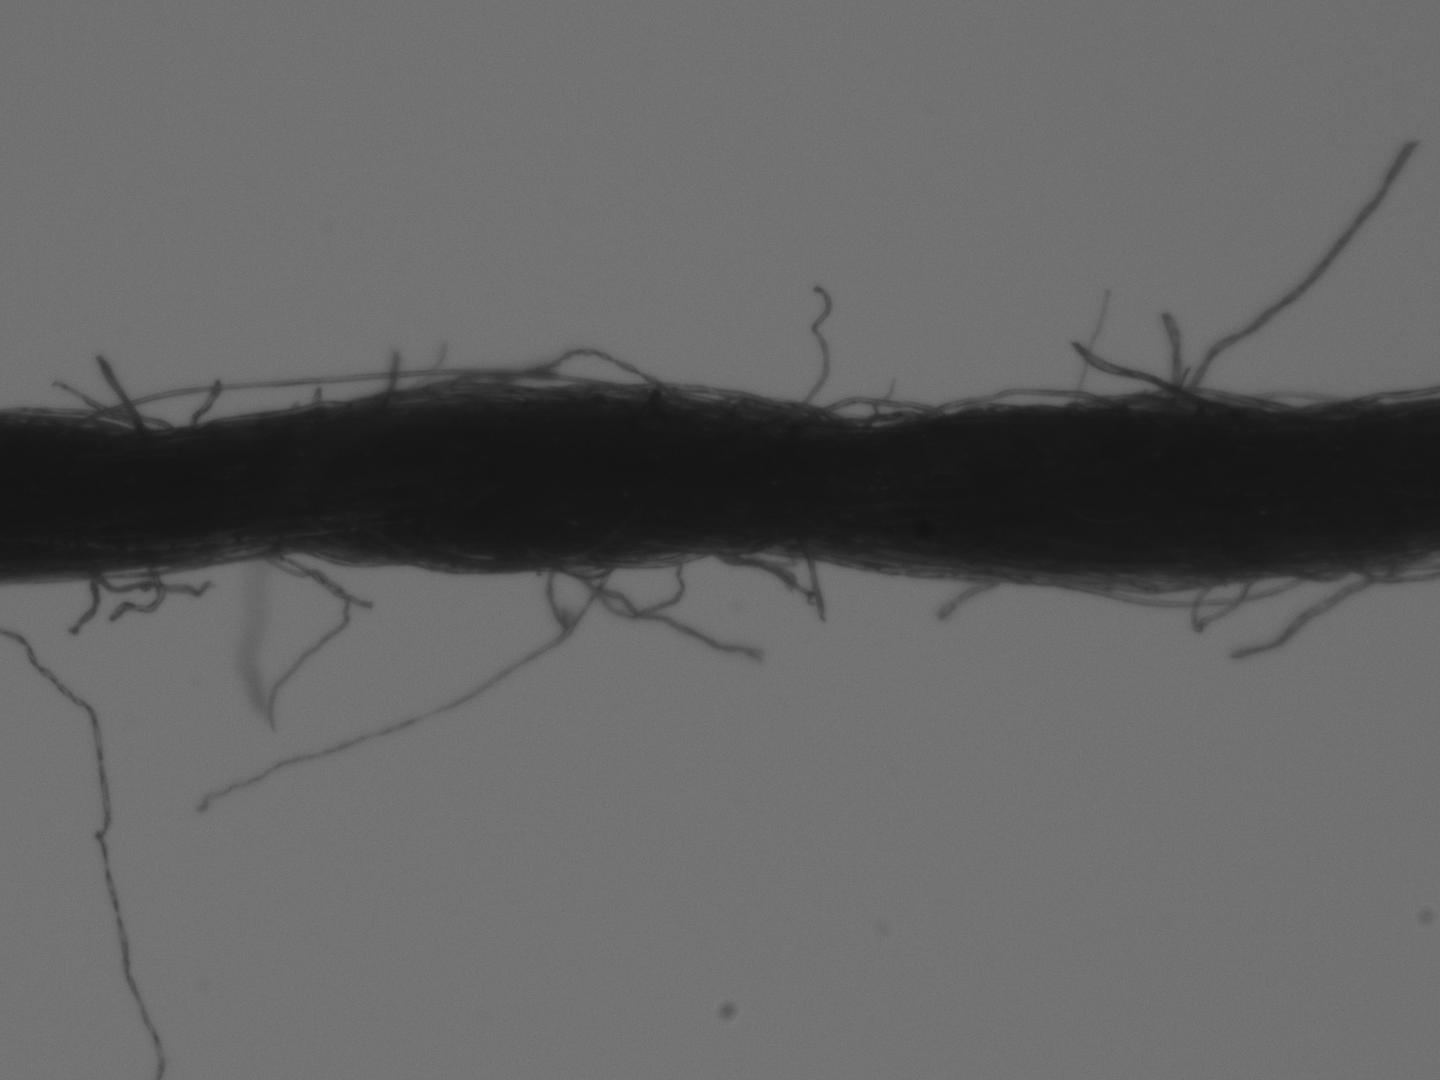loop_fiber: (77, 370, 490, 430), (484, 347, 664, 394), (1083, 567, 1295, 605), (575, 555, 685, 619), (920, 385, 1121, 416), (717, 547, 818, 607), (795, 394, 937, 425), (1193, 576, 1244, 636), (557, 559, 608, 587)
protruding_fiber: (1193, 126, 1422, 407), (793, 270, 835, 414), (93, 347, 138, 433), (929, 571, 1006, 621)
